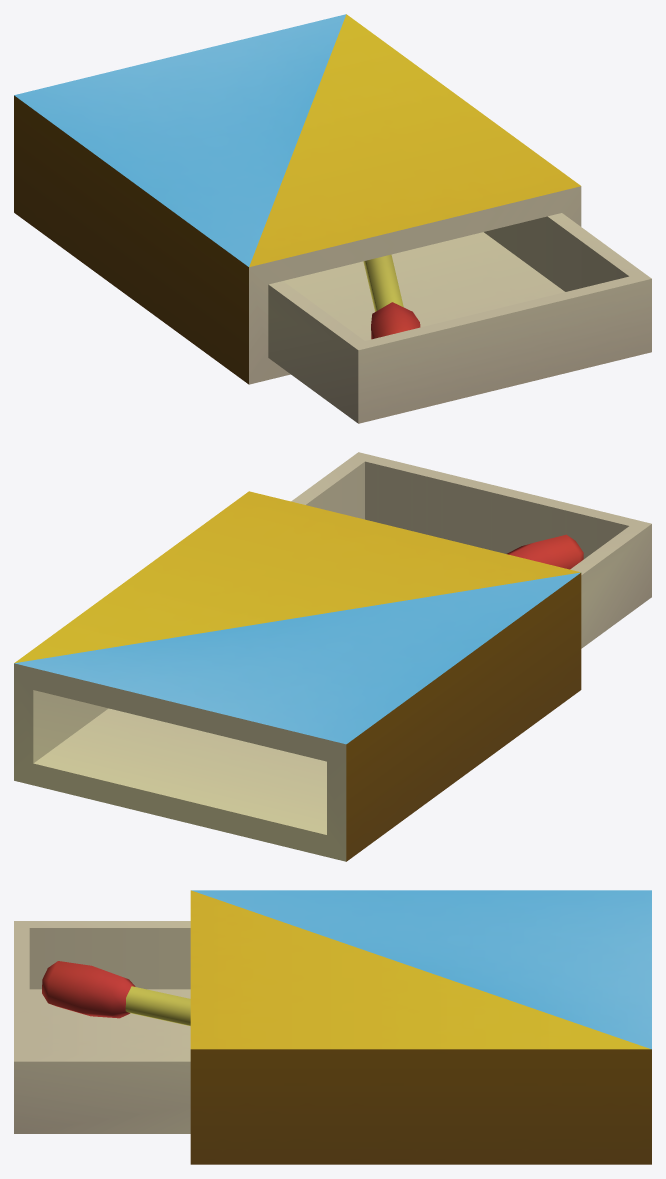
Rendered from SM_Match.fbx.
3 renders of one model, top to bottom at view 1: azimuth 30°, elevation 25°; view 2: azimuth 150°, elevation 25°; view 3: azimuth 270°, elevation 25°, orthographic.
Parts seen in each view (by area): view 1: SM_Match_box, SM_Match; view 2: SM_Match_box, SM_Match; view 3: SM_Match_box, SM_Match.
Boxes of the visible parts, left/top/right/bottom form: SM_Match_box: left=14, top=14, right=651, bottom=423; SM_Match: left=363, top=254, right=420, bottom=339; SM_Match_box: left=14, top=452, right=651, bottom=861; SM_Match: left=507, top=534, right=583, bottom=569; SM_Match_box: left=14, top=890, right=651, bottom=1164; SM_Match: left=42, top=961, right=190, bottom=1026.
Bounding box in the file's own units: 43.7 × 14.75 × 73.99.
